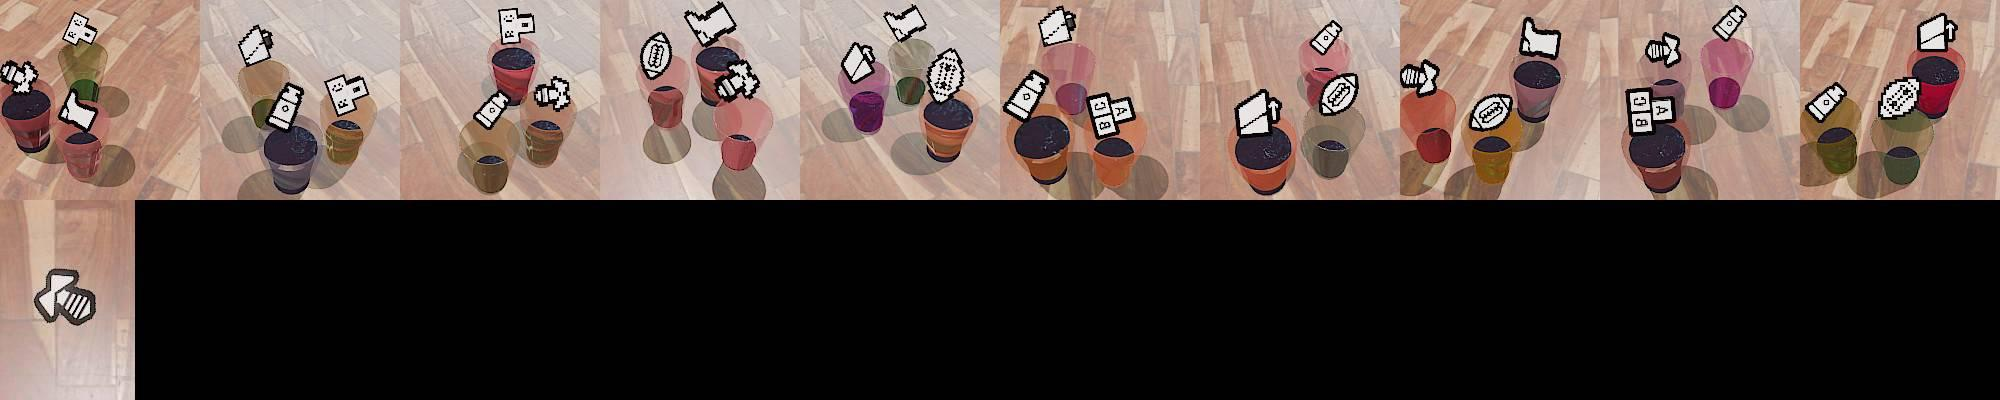icon: (1625, 87, 1676, 138), (1001, 68, 1047, 122), (1085, 92, 1138, 139), (684, 1, 736, 46), (925, 48, 966, 103), (1235, 89, 1279, 139), (264, 80, 305, 132), (324, 73, 370, 118), (1318, 70, 1360, 117), (717, 60, 763, 102), (1467, 92, 1514, 132), (1519, 17, 1562, 60), (57, 87, 99, 131), (1876, 79, 1921, 121), (1804, 80, 1846, 124), (883, 4, 927, 43), (1916, 13, 1959, 52), (1037, 5, 1077, 47), (639, 31, 672, 80), (473, 89, 511, 131), (237, 23, 273, 66), (1402, 59, 1440, 98), (533, 71, 571, 111), (0, 59, 41, 94), (497, 6, 534, 45), (1309, 17, 1344, 56), (842, 42, 876, 83), (59, 287, 96, 324), (1644, 31, 1682, 66), (1712, 4, 1747, 42), (62, 11, 98, 47)
